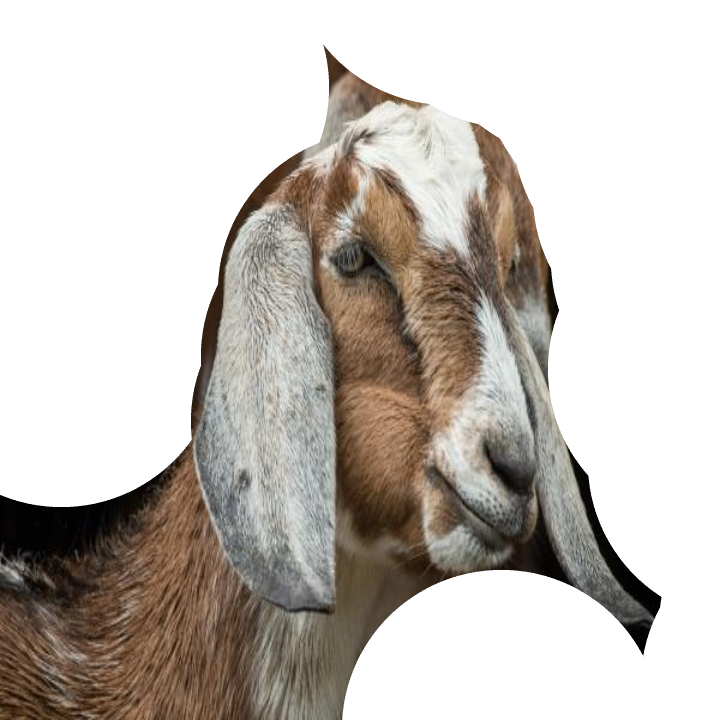Goat: (0, 49, 663, 719)
